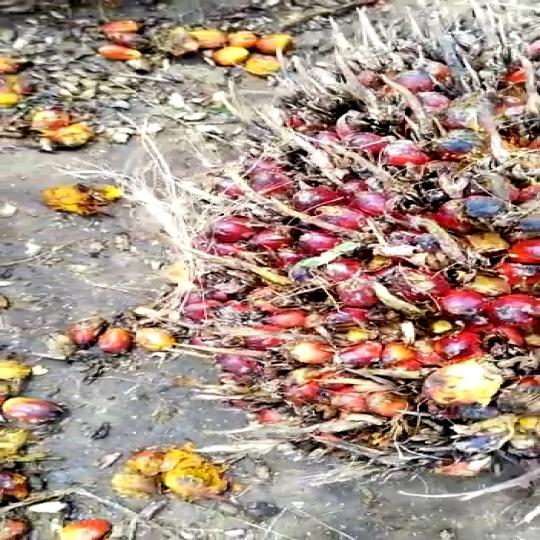masak: (163, 0, 540, 483)
